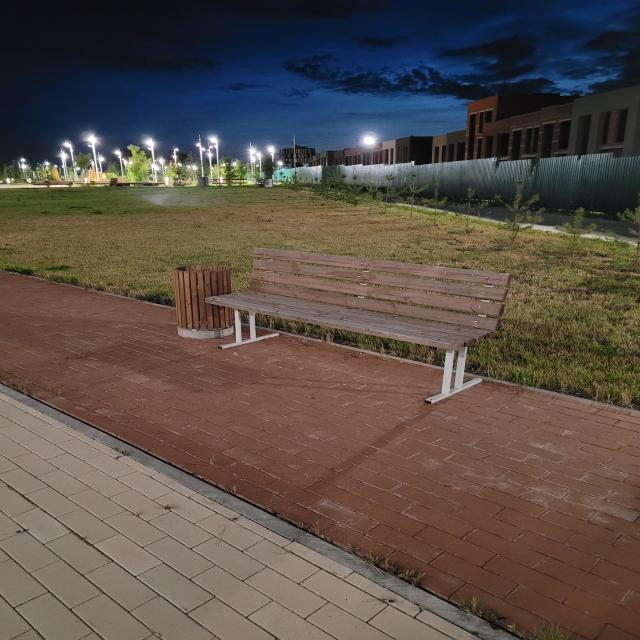Bench: (205, 247, 512, 404)
